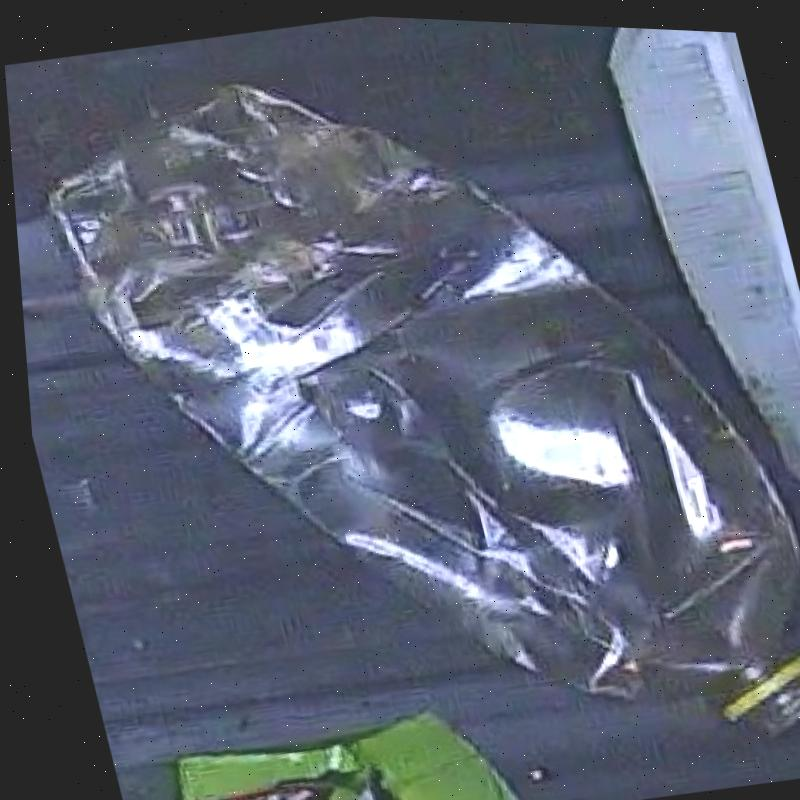botella: (5, 0, 800, 800)
